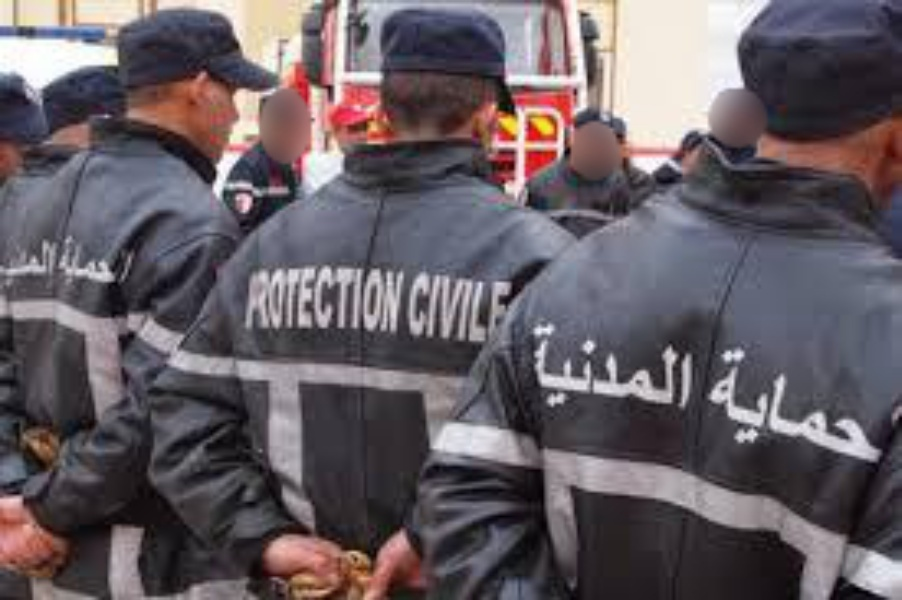text: (721, 332, 736, 473), (737, 332, 752, 473), (753, 332, 768, 473), (769, 332, 784, 473), (785, 332, 800, 473), (801, 332, 816, 473), (817, 332, 832, 473), (833, 332, 848, 473), (849, 332, 864, 473), (865, 332, 880, 473), (529, 319, 544, 414), (545, 319, 560, 414), (561, 319, 576, 414), (577, 319, 592, 414), (593, 319, 608, 414), (609, 319, 624, 414), (625, 319, 640, 414), (641, 319, 656, 414), (657, 319, 672, 414), (673, 319, 688, 414), (417, 269, 432, 345), (433, 269, 448, 345), (449, 269, 464, 345), (465, 269, 480, 345), (481, 269, 496, 345), (497, 269, 512, 345), (881, 332, 889, 473), (257, 266, 272, 335), (273, 266, 288, 335), (289, 266, 304, 335), (305, 266, 320, 335), (321, 266, 336, 335), (337, 266, 352, 335), (353, 266, 368, 335), (369, 266, 384, 335), (385, 266, 400, 335), (243, 266, 256, 335), (65, 233, 80, 292), (81, 233, 96, 292), (97, 233, 112, 292), (1, 233, 16, 289), (17, 233, 32, 289), (33, 233, 48, 289), (689, 319, 696, 414), (53, 233, 64, 292), (49, 233, 60, 289), (522, 319, 528, 414), (113, 233, 122, 292), (513, 269, 519, 345), (401, 266, 407, 335), (411, 269, 416, 345), (719, 332, 720, 473)
